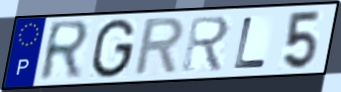5: (280, 8, 322, 71)
G: (88, 17, 138, 81)
L: (231, 15, 269, 71)
R: (36, 18, 93, 85), (130, 15, 187, 79), (180, 14, 231, 74)
